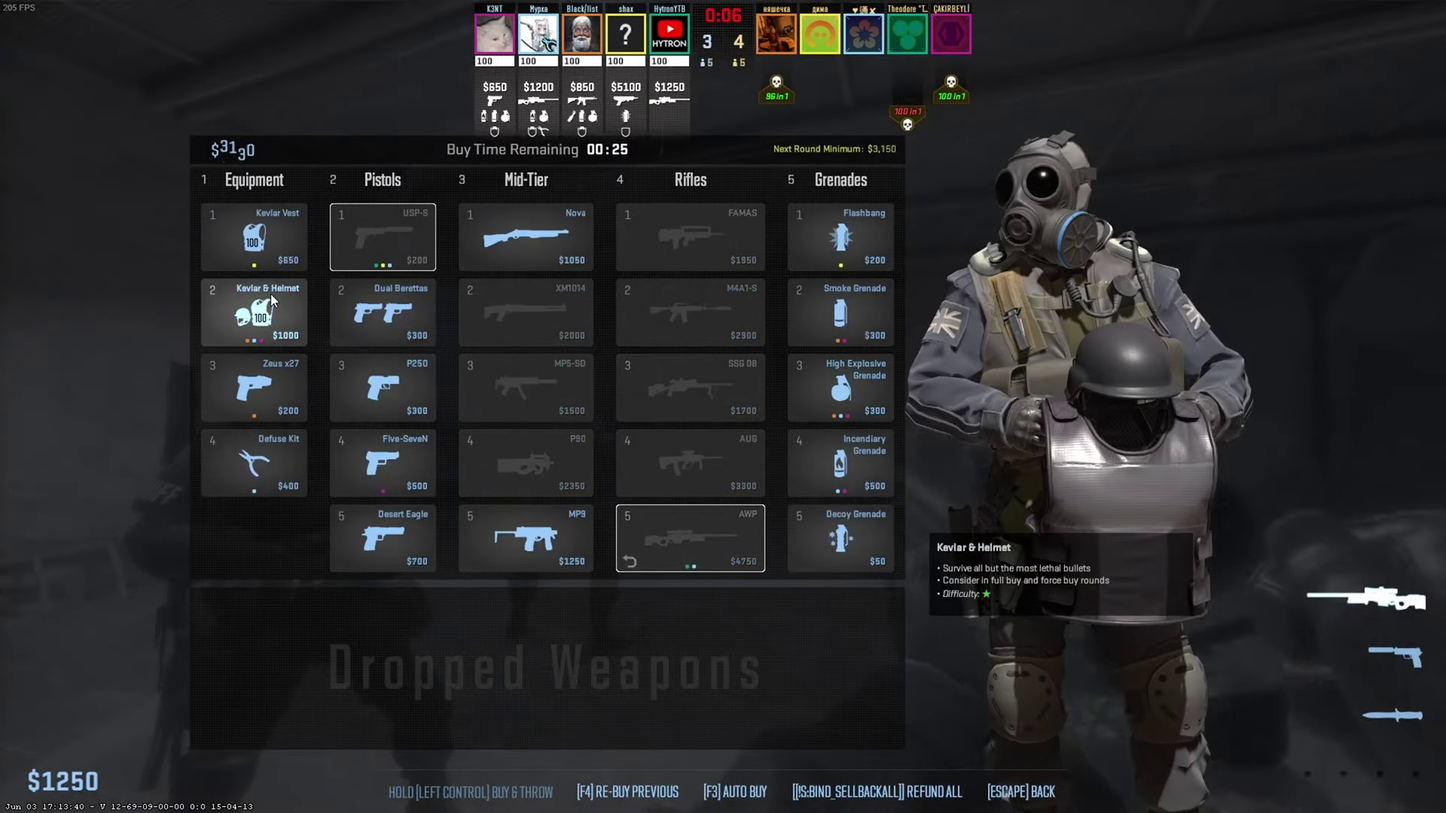CT: (971, 132, 1225, 813)
